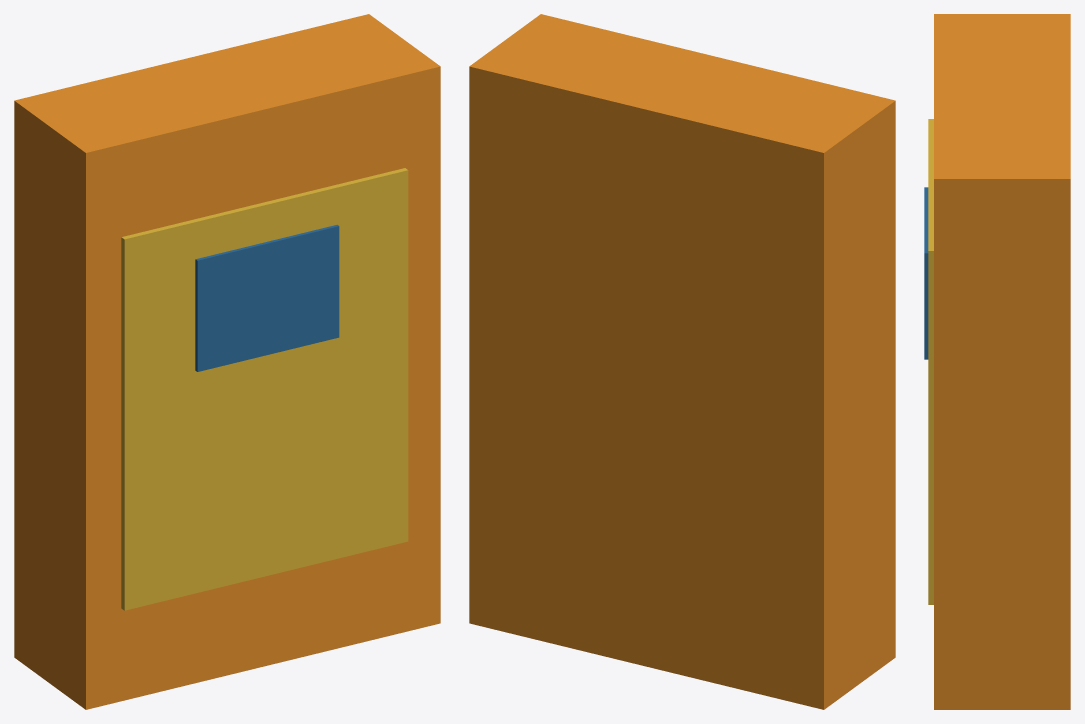
File: FD_CerealBox_01.glb
The picture shows the model from 3 angles, left to right: view 1: azimuth 30°, elevation 25°; view 2: azimuth 150°, elevation 25°; view 3: azimuth 270°, elevation 25°; orthographic projection. The views are drawn at different scales.
Parts seen in each view (by area): view 1: FD_CerealBox_01; view 2: FD_CerealBox_01; view 3: FD_CerealBox_01.
Part boxes in pixels (<box>): FD_CerealBox_01: <box>14,14,440,709</box>; FD_CerealBox_01: <box>469,14,895,709</box>; FD_CerealBox_01: <box>924,14,1070,709</box>.
Bounding box in the file's own units: 0.2 × 0.3 × 0.075.
1 material, 1 textured.
